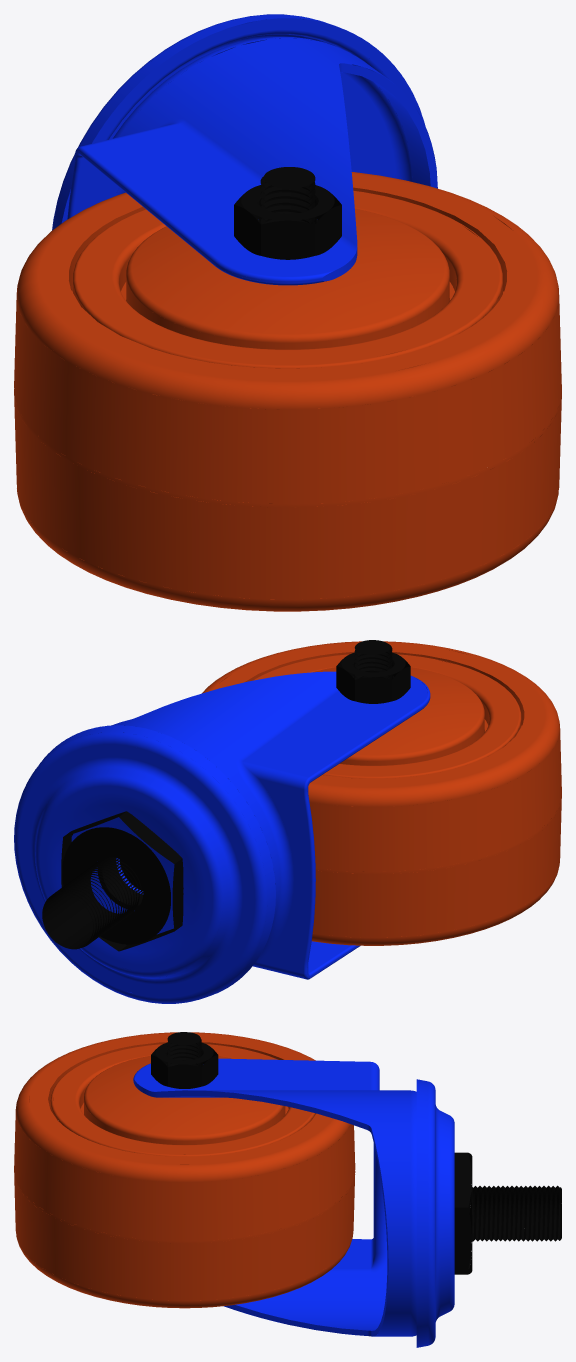
Rendered from jiaolun.FBX.
3 views of the same model, one above another, from view 1: azimuth 30°, elevation 25°; view 2: azimuth 150°, elevation 25°; view 3: azimuth 270°, elevation 25° (orthographic). The views are drawn at different scales.
Visible parts, largest first — view 1: TRM_SRF (×37); view 2: TRM_SRF (×56); view 3: TRM_SRF (×57).
Part boxes in pixels (x1=…): TRM_SRF (×37): x1=14, y1=14, x2=561, y2=611; TRM_SRF (×56): x1=14, y1=641, x2=561, y2=1003; TRM_SRF (×57): x1=14, y1=1032, x2=552, y2=1347.
Bounding box in the file's own units: 3.58 × 2.46 × 4.82.
